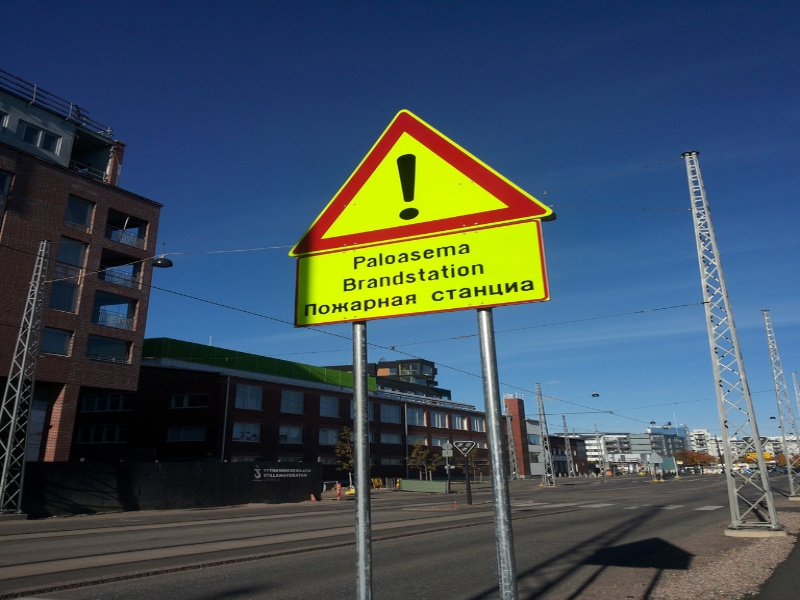warning: (291, 103, 571, 326)
